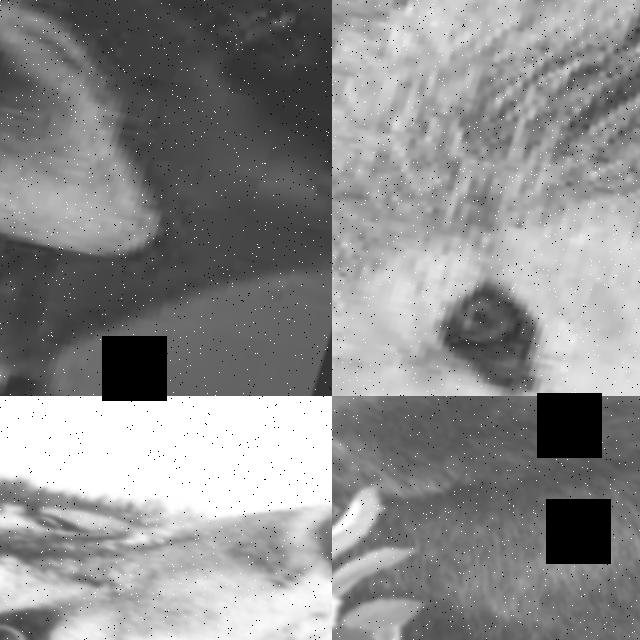dog: (0, 0, 332, 396)
wolf: (332, 0, 640, 396), (0, 396, 332, 640), (332, 396, 640, 640)
